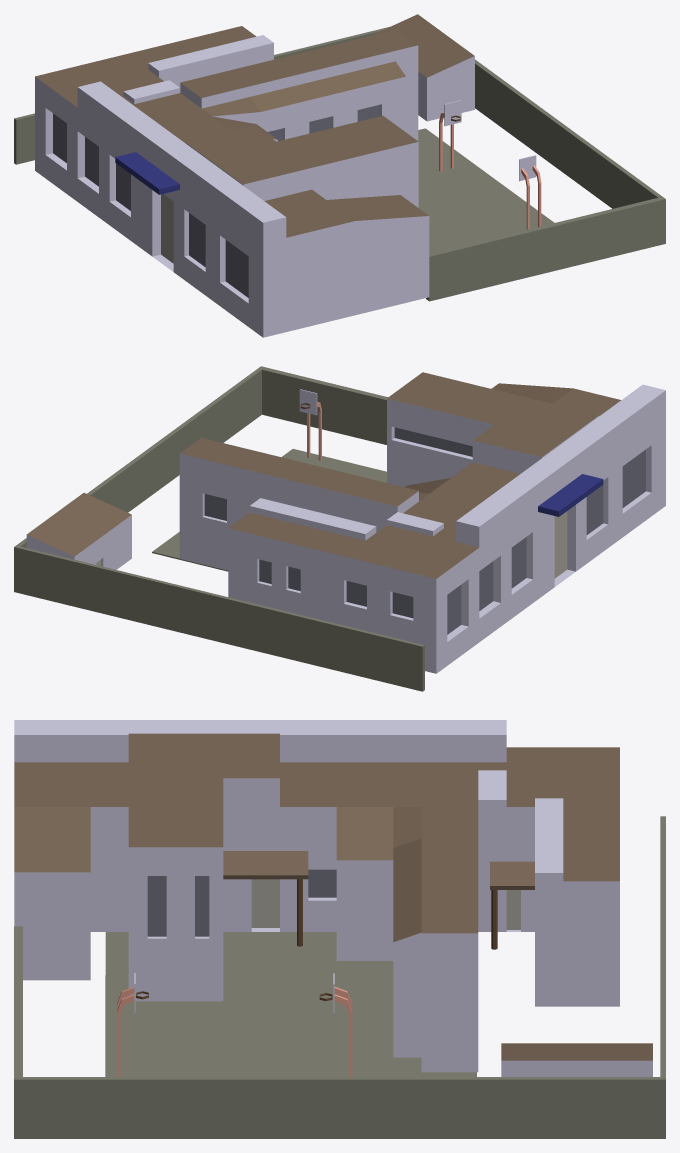
The model's file is secundaria.gltf.
The picture shows the model from 3 angles, top to bottom: view 1: azimuth 30°, elevation 25°; view 2: azimuth 150°, elevation 25°; view 3: azimuth 270°, elevation 25°; orthographic projection. The views are drawn at different scales.
Parts seen in each view (by area): view 1: Edificio, Tapial.001, Patio, Sucuchito, Techo; view 2: Edificio, Tapial.001, Sucuchito, Patio, Techo; view 3: Edificio, Tapial.001, Patio, Sucuchito, Techo salida patio, Techo salida patio.001.
Boxes of the visible parts, <box> form: Edificio: <box>35,26,429,337</box>; Tapial.001: <box>14,27,665,301</box>; Patio: <box>418,128,554,253</box>; Sucuchito: <box>370,14,474,121</box>; Techo: <box>115,152,179,194</box>; Edificio: <box>179,372,665,673</box>; Tapial.001: <box>14,366,424,691</box>; Sucuchito: <box>26,493,131,569</box>; Patio: <box>152,449,386,571</box>; Techo: <box>538,474,603,516</box>; Edificio: <box>14,720,619,1072</box>; Tapial.001: <box>14,816,665,1138</box>; Patio: <box>105,932,476,1076</box>; Sucuchito: <box>501,1043,652,1076</box>; Techo salida patio: <box>223,851,308,879</box>; Techo salida patio.001: <box>490,861,534,889</box>.
Bounding box in the file's own units: 8.02 × 2.18 × 8.06.
